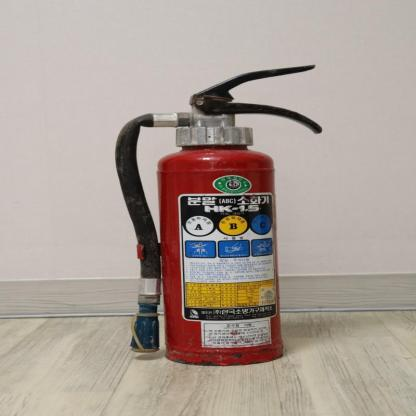Fire Extinguisher: (106, 71, 331, 376)
